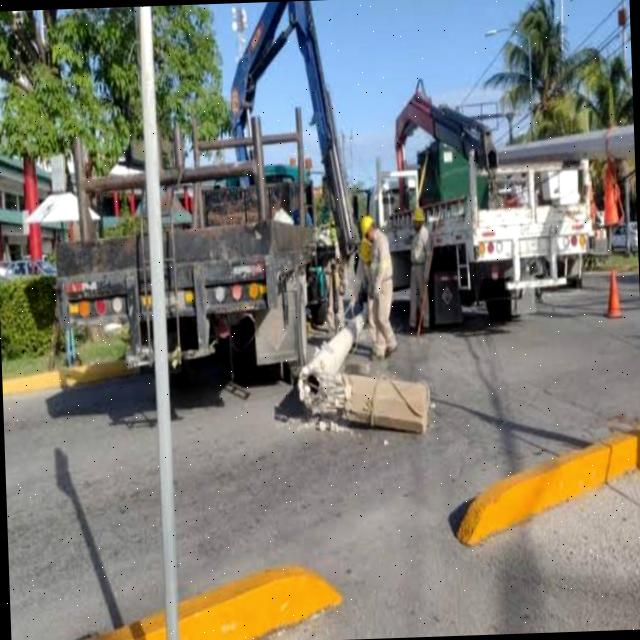Broken Pole: (292, 297, 436, 446)
